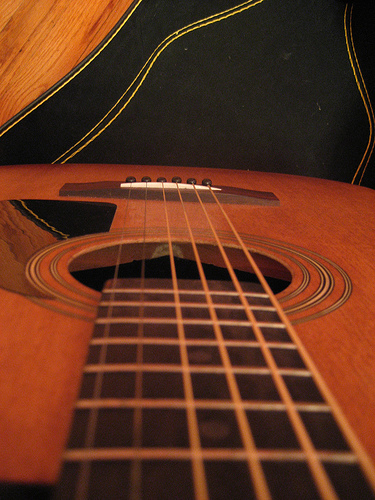guitar: (1, 159, 375, 500)
